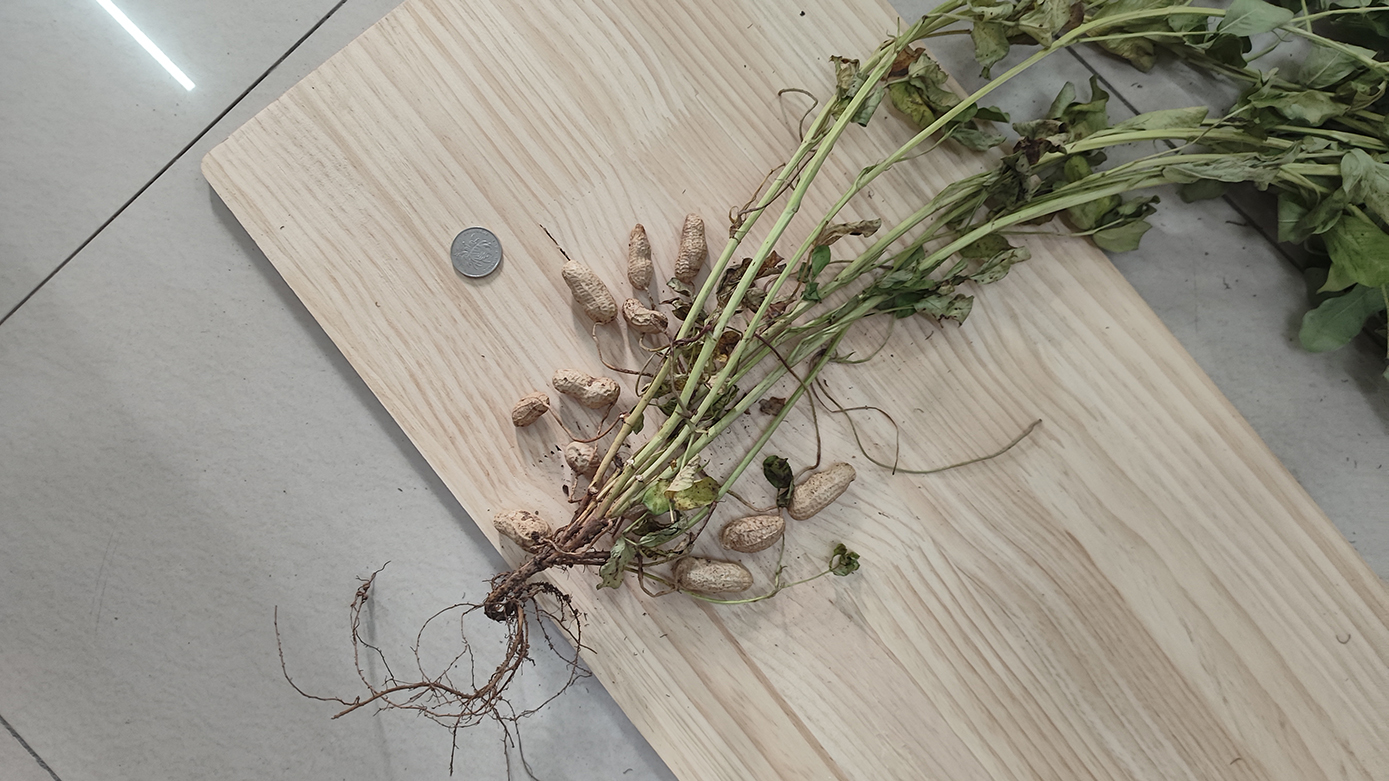h: (785, 462, 857, 522), (562, 259, 617, 323), (676, 556, 754, 598), (718, 512, 785, 553), (552, 370, 620, 410), (673, 213, 706, 282), (494, 510, 552, 549), (622, 298, 667, 336), (628, 222, 653, 287), (510, 392, 550, 430), (563, 439, 597, 476)
